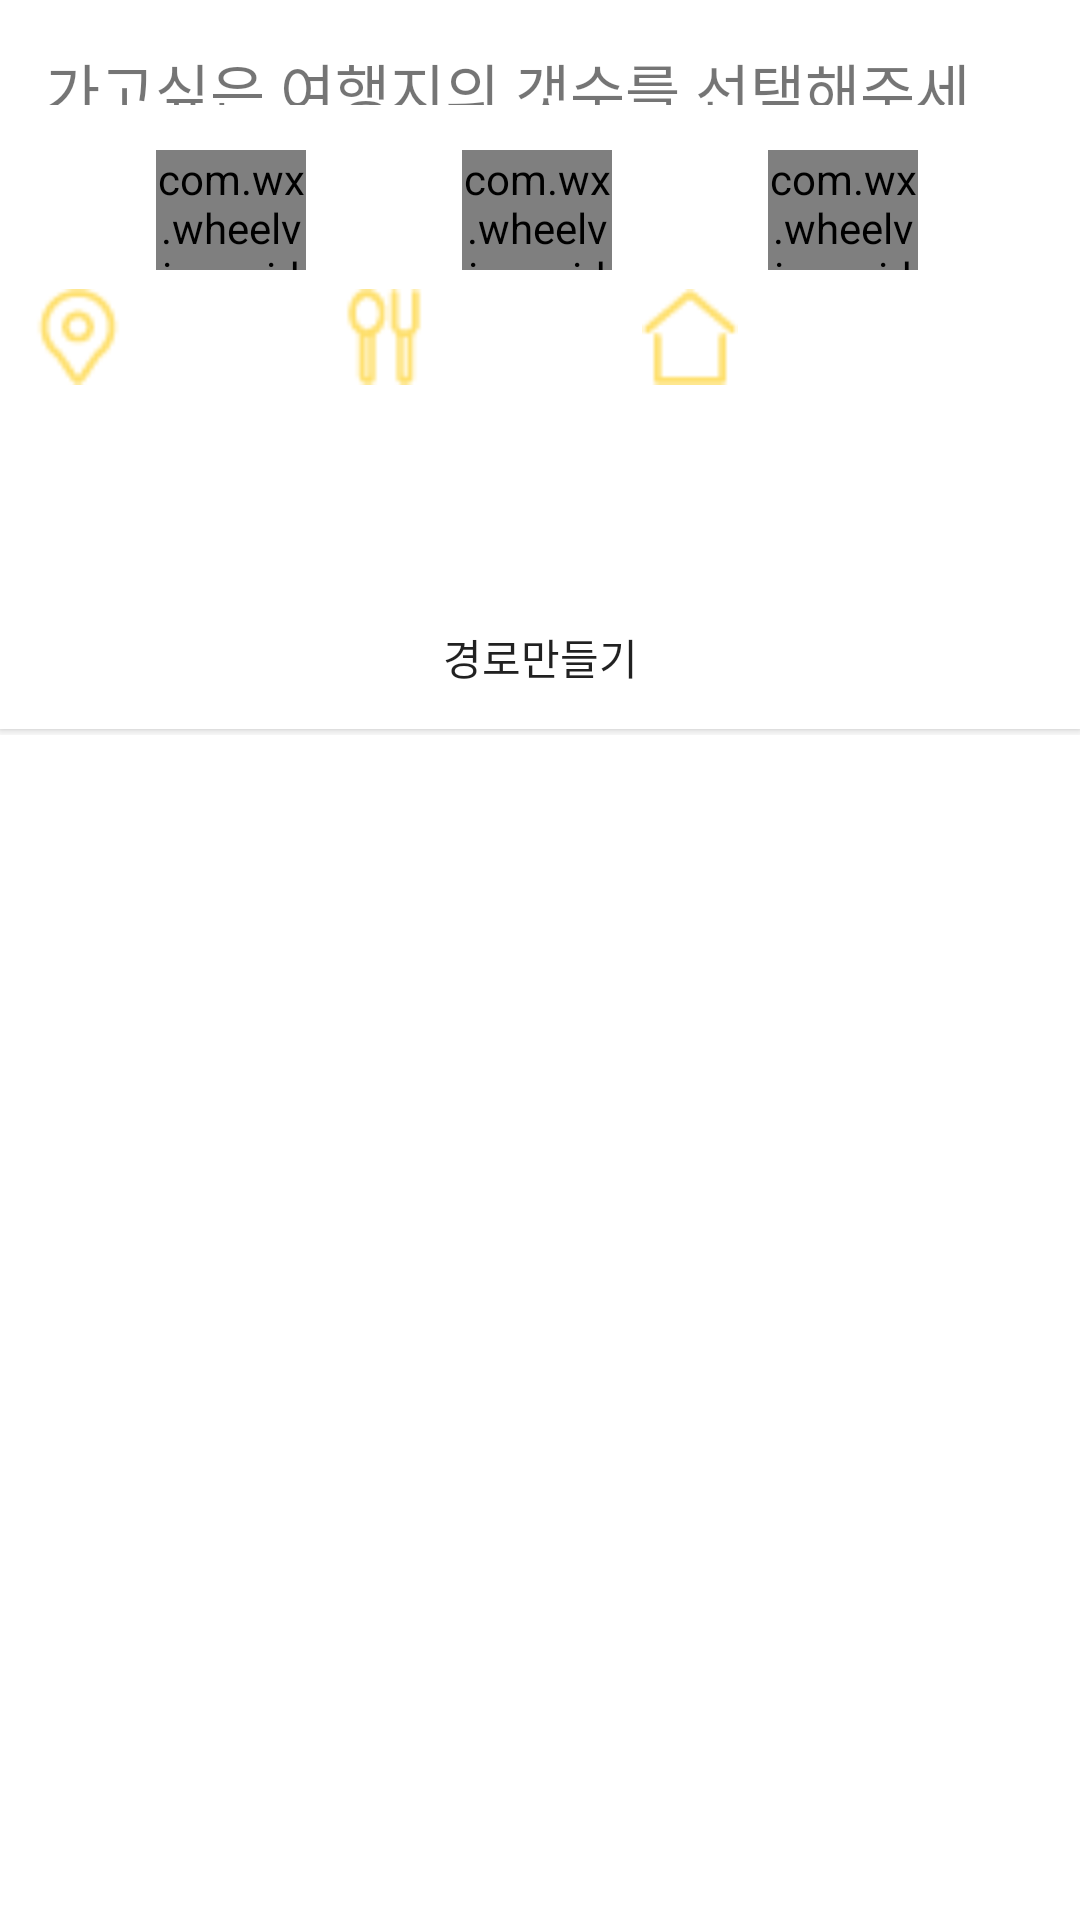

Where icons sit on this 1080 x 1920 app screen, as bbox=[x1, y1, x2, y2]:
accomo: bbox=[642, 289, 738, 385]
landmark: bbox=[39, 289, 117, 385]
restarant: bbox=[347, 289, 421, 385]
